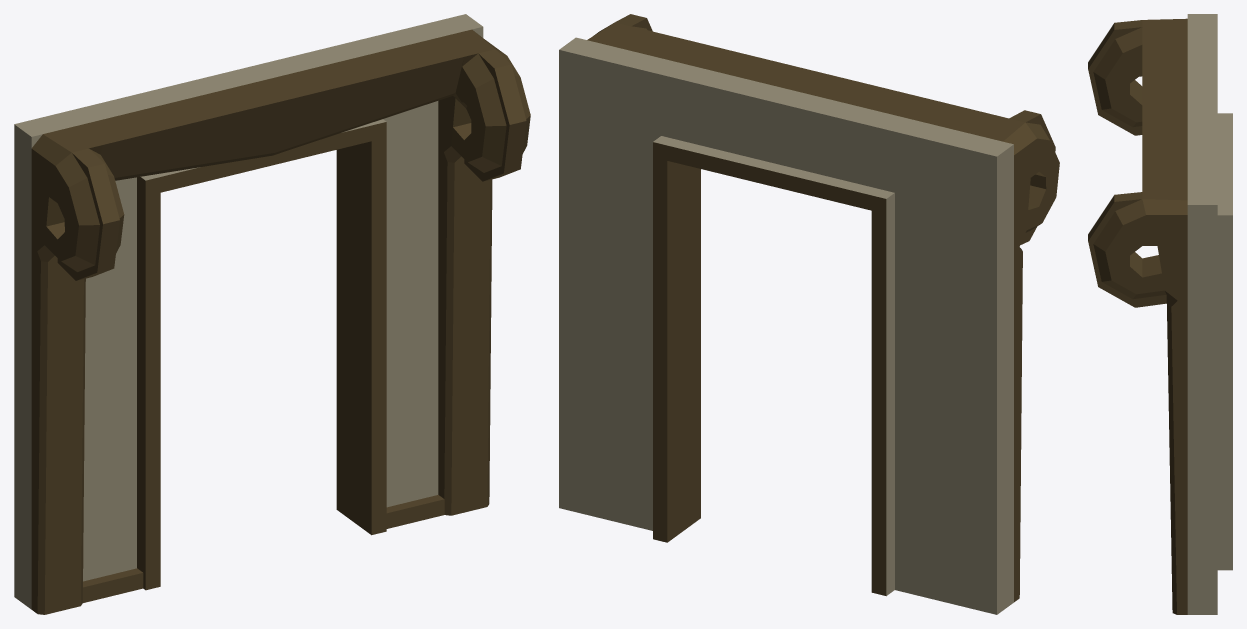
File: fantasy_wall_2_door.fbx
3 views of the same model, side by side, from view 1: azimuth 30°, elevation 25°; view 2: azimuth 150°, elevation 25°; view 3: azimuth 270°, elevation 25° (orthographic). The views are drawn at different scales.
Parts seen in each view (by area): view 1: Cube.038; view 2: Cube.038; view 3: Cube.038.
Boxes of the visible parts, x1,y1,x2,y2 form: Cube.038: [14, 14, 530, 614]; Cube.038: [559, 14, 1059, 614]; Cube.038: [1088, 14, 1232, 614].
Size of the model in its own units: 300 by 300 by 96.
